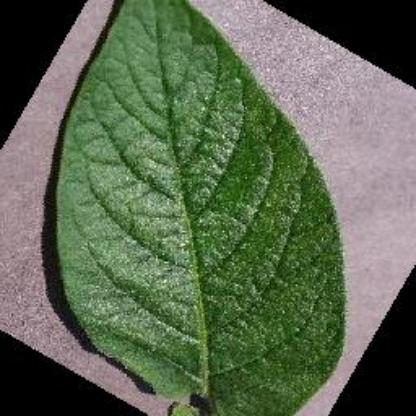Healthy-plant: (52, 0, 348, 414)
